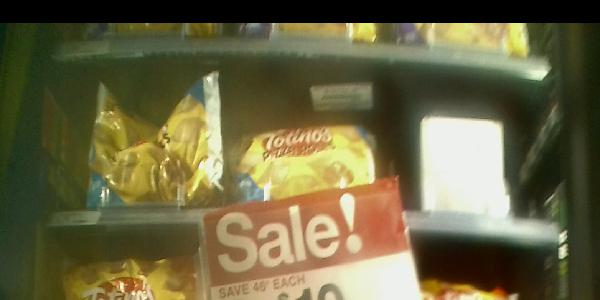icecream: (231, 74, 406, 226), (88, 77, 232, 210)
